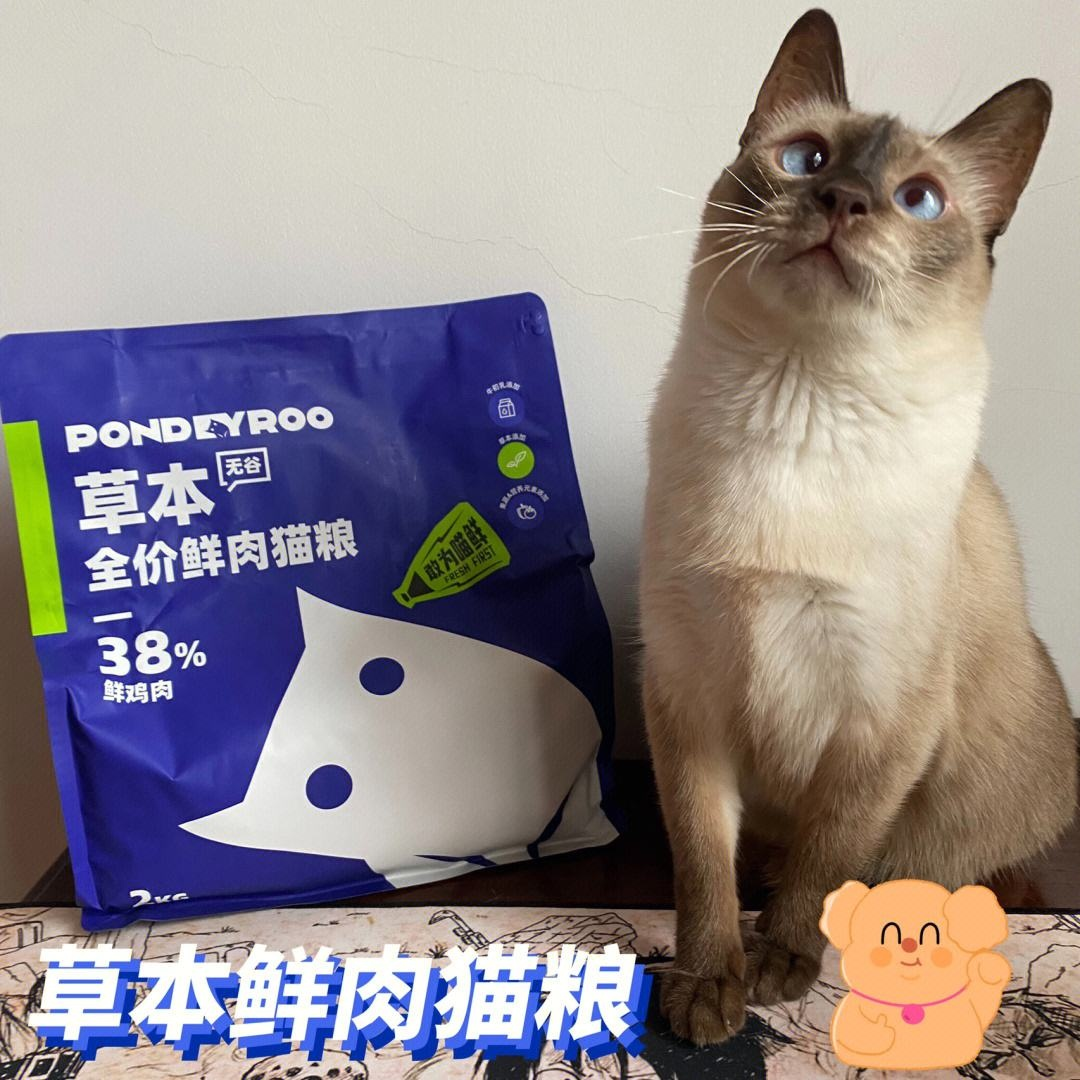cat: (634, 8, 1080, 1045)
